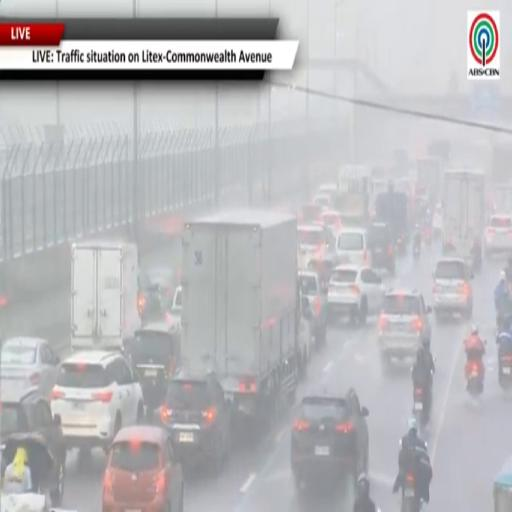car: (51, 350, 144, 451), (0, 387, 66, 503), (291, 389, 368, 488), (161, 371, 231, 473), (102, 426, 184, 511), (126, 323, 181, 417), (378, 290, 431, 367), (0, 338, 59, 398), (328, 265, 385, 324), (433, 258, 473, 318), (138, 268, 179, 322), (298, 271, 327, 345), (297, 224, 334, 268), (335, 227, 371, 267), (369, 222, 395, 274), (485, 215, 511, 257), (306, 259, 335, 294), (166, 285, 182, 329), (298, 203, 323, 225), (322, 210, 342, 236), (432, 204, 443, 237), (313, 192, 332, 211), (319, 183, 338, 197)
motorcycle: (497, 332, 511, 391), (401, 473, 421, 511), (413, 386, 428, 431), (465, 360, 483, 397), (499, 355, 511, 391), (413, 239, 421, 260)
truck: (182, 210, 300, 422), (71, 242, 140, 350), (443, 168, 486, 264), (333, 165, 372, 227), (415, 157, 442, 207), (491, 139, 511, 184), (492, 173, 511, 214)
